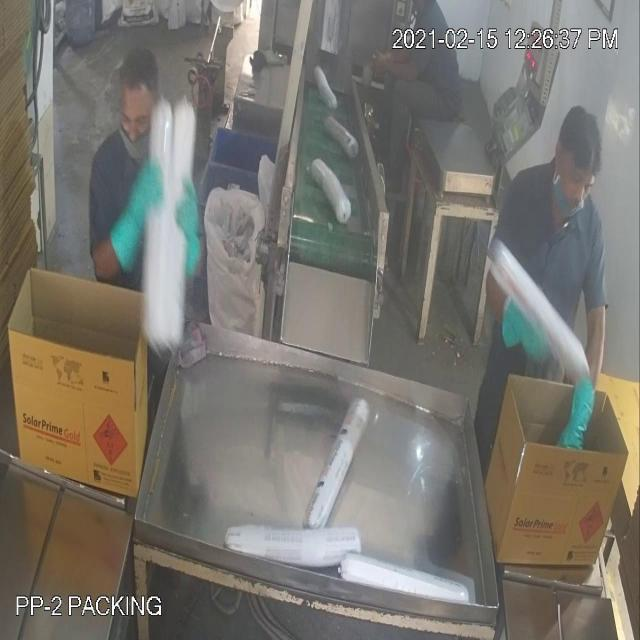Gloves: (30, 56, 526, 323)
